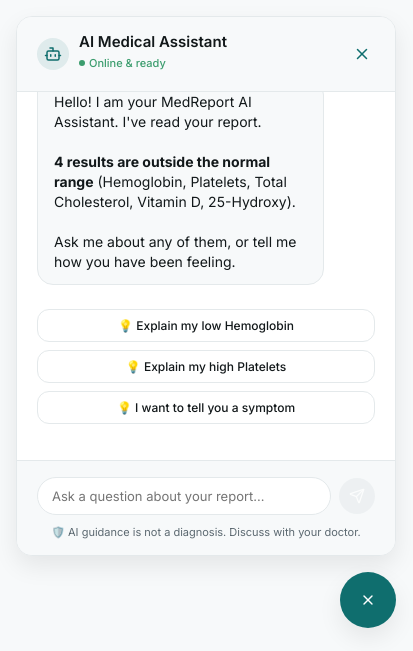
Test: ChatWidget Component › submits text immediately when clicking quick reply chips
(page scrolled)
# Click chip
Click the button "💡 Explain my low Hemoglobin".
click(206, 326)  # box 37,309 -> 375,342
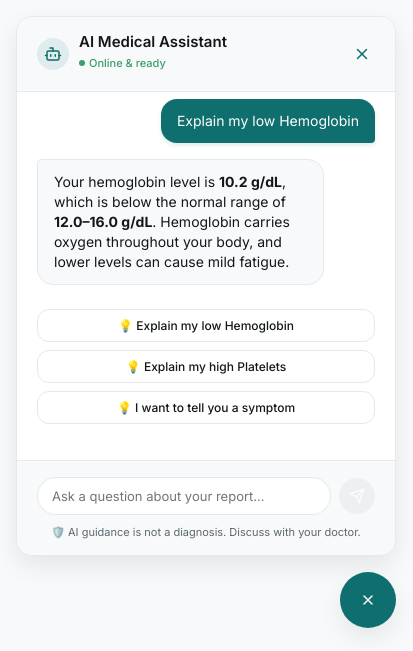
Result: the text "Explain my low Hemoglobin" is shown at 161,99 -> 375,143
Result: the text "Hemoglobin carries oxygen" is shown at 54,213 -> 294,270
